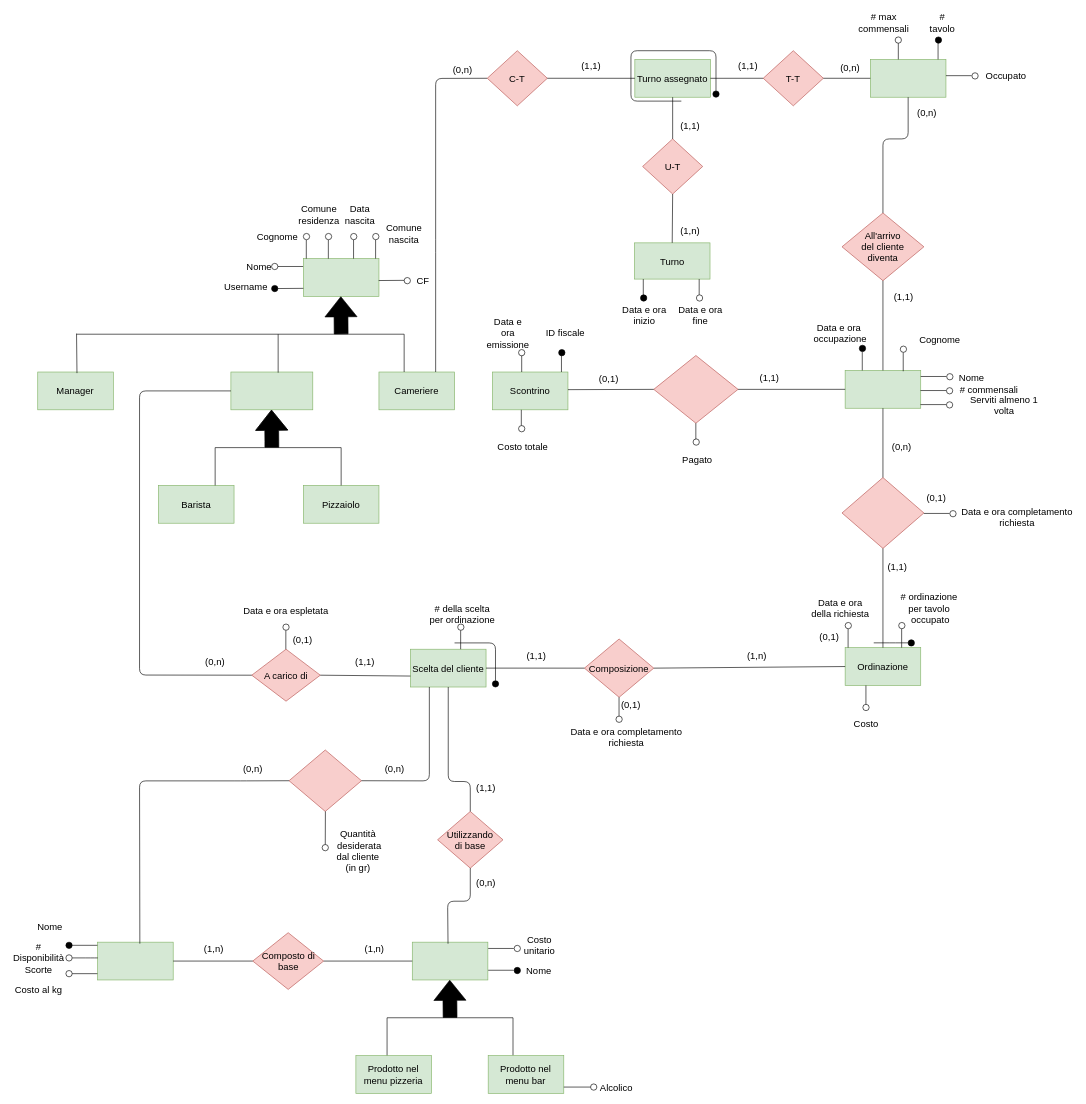
Image size: 1086x1104. Some labels were removed from this diagram. The shapes that lost their labels are listed below. From the top down, each one's centre as x and y in pixels, then its label:
the point at 908,78: Tavolo
the point at 341,277: Lavoratore
the point at 271,390: Lavoratore in ambito di prodotti di consumazione
the point at 695,389: Per il tavolo occupato si rilascia
the point at 883,389: Tavolo occupato
the point at 882,512: Da eseguire per
the point at 324,780: Aggiunge al prodotto scelto
the point at 135,961: Ingrediente
the point at 450,961: Prodotto nel menu
